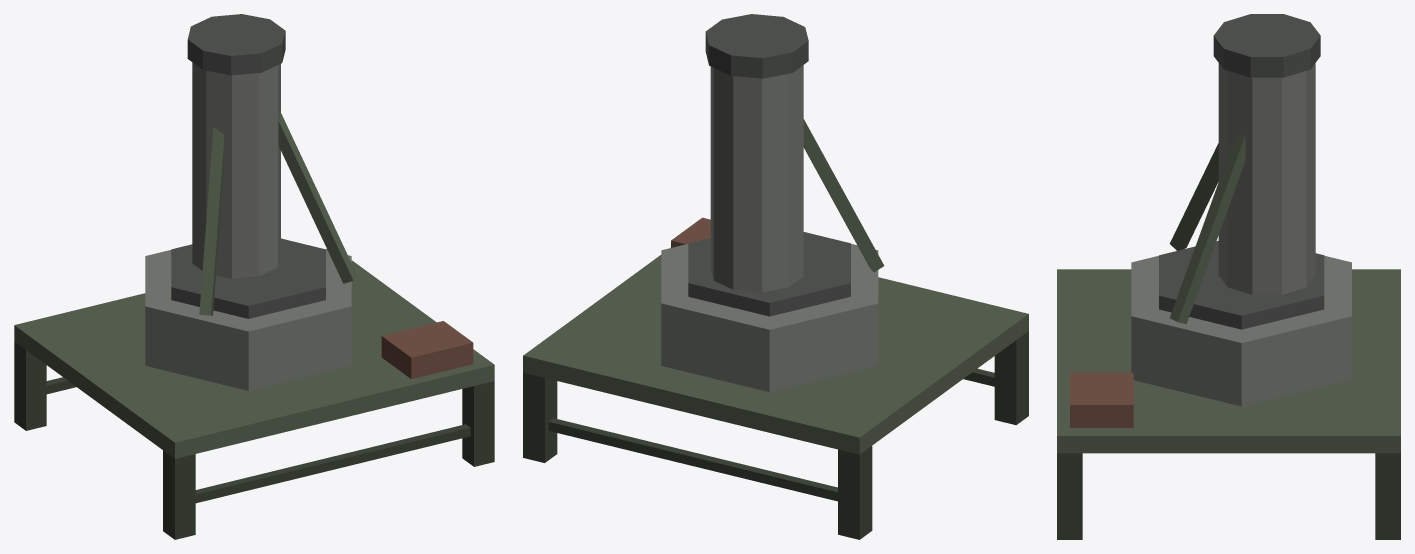
Rendered from ancient_drill_platform_1.obj.
3 views of the same model, side by side, from view 1: azimuth 30°, elevation 25°; view 2: azimuth 150°, elevation 25°; view 3: azimuth 270°, elevation 25° (orthographic). The views are drawn at different scales.
Parts seen in each view (by area): view 1: ancient_drill_platform_1; view 2: ancient_drill_platform_1; view 3: ancient_drill_platform_1.
Boxes of the visible parts, bbox=[...] form: ancient_drill_platform_1: bbox=[14, 14, 494, 539]; ancient_drill_platform_1: bbox=[523, 14, 1028, 539]; ancient_drill_platform_1: bbox=[1057, 14, 1400, 539].
Bounding box in the file's own units: 3.1 × 3.65 × 2.7.
